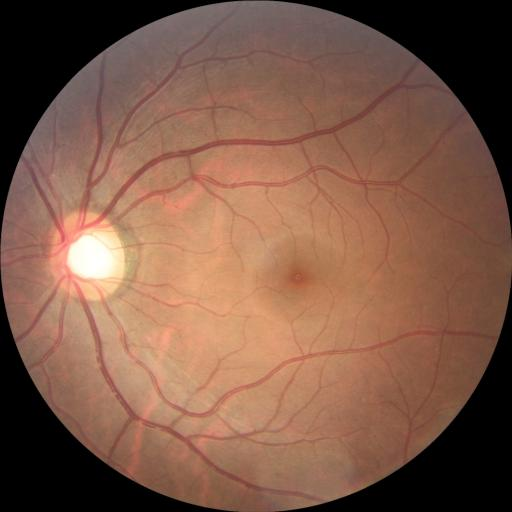Optic Cup: (67, 232, 114, 279)
Optic Disc: (50, 210, 125, 301)
